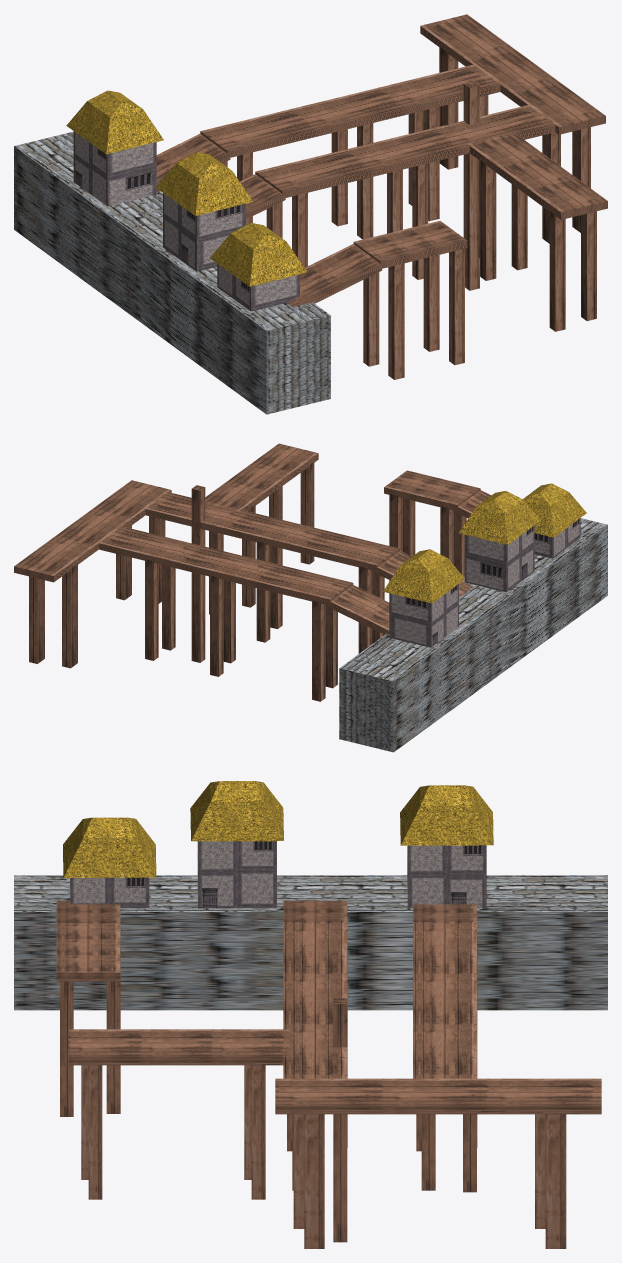
Rendered from Port 2.obj.
The picture shows the model from 3 angles, top to bottom: view 1: azimuth 30°, elevation 25°; view 2: azimuth 150°, elevation 25°; view 3: azimuth 270°, elevation 25°; orthographic projection. The views are drawn at different scales.
Parts seen in each view (by area): view 1: Cube, Cube.007_Cube.006, Cube.021_Cube.023, Cube.026_Cube.029, Cube.030_Cube.017, Plane.031_Plane.032, Plane.000, Plane.001, Plane.032_Plane.033, Plane.003, Cube.012_Cube.013, Cube.001_Cube.010 (+21 smaller); view 2: Cube, Cube.007_Cube.006, Cube.021_Cube.023, Cube.026_Cube.029, Cube.030_Cube.017, Plane.000, Plane.031_Plane.032, Plane.001, Plane.032_Plane.033, Cube.012_Cube.013, Cube.017_Cube.019, Plane.003 (+23 smaller); view 3: Cube, Cube.026_Cube.029, Cube.007_Cube.006, Cube.021_Cube.023, Cube.030_Cube.017, Plane.000, Plane.001, Plane.032_Plane.033, Plane.003, Plane.031_Plane.032, Cube.012_Cube.013, Cube.016_Cube.027 (+16 smaller).
Part boxes in pixels (box(x1,y1,x2,y2)): Cube: box(14, 131, 330, 414); Cube.007_Cube.006: box(200, 64, 500, 157); Cube.021_Cube.023: box(255, 105, 555, 197); Cube.026_Cube.029: box(420, 14, 605, 134); Cube.030_Cube.017: box(467, 132, 607, 219); Plane.031_Plane.032: box(73, 131, 156, 206); Plane.000: box(163, 193, 245, 271); Plane.001: box(155, 152, 252, 215); Plane.032_Plane.033: box(66, 90, 163, 154); Plane.003: box(210, 223, 307, 286); Cube.012_Cube.013: box(353, 221, 467, 268); Cube.001_Cube.010: box(287, 244, 382, 306); Cube: box(339, 518, 607, 752); Cube.007_Cube.006: box(99, 526, 353, 605); Cube.021_Cube.023: box(145, 492, 399, 570); Cube.026_Cube.029: box(14, 480, 171, 582); Cube.030_Cube.017: box(205, 443, 318, 511); Plane.000: box(464, 525, 534, 592); Plane.031_Plane.032: box(389, 584, 458, 647); Plane.001: box(459, 491, 540, 544); Plane.032_Plane.033: box(383, 549, 464, 603); Cube.012_Cube.013: box(384, 470, 480, 511); Cube.017_Cube.019: box(191, 485, 205, 662); Plane.003: box(523, 483, 586, 537); Cube: box(14, 875, 607, 1010); Cube.026_Cube.029: box(275, 1078, 601, 1114); Cube.007_Cube.006: box(413, 922, 476, 1078); Cube.021_Cube.023: box(283, 922, 347, 1078); Cube.030_Cube.017: box(69, 1029, 289, 1065); Plane.000: box(197, 841, 276, 908); Plane.001: box(190, 781, 283, 841); Plane.032_Plane.033: box(400, 785, 493, 845); Plane.003: box(63, 817, 156, 877); Plane.031_Plane.032: box(407, 845, 486, 908); Cube.012_Cube.013: box(56, 923, 120, 981); Cube.016_Cube.027: box(545, 1114, 566, 1248).
Bounding box in the file's own units: 0.7382 × 0.3724 × 0.7171.
Materials: 4 (4 with a texture image).
